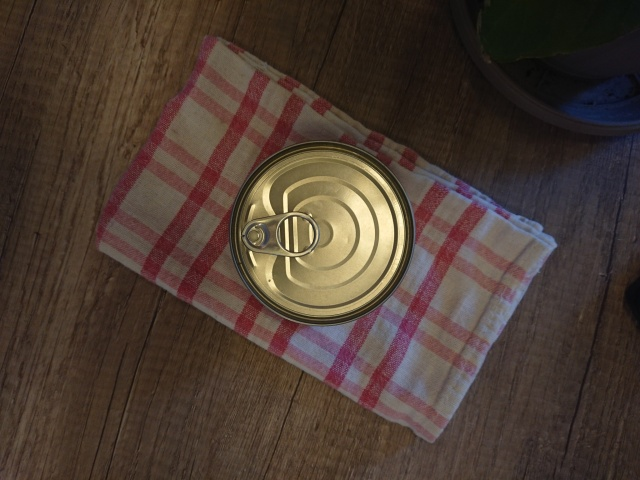Giana Tuna Salad Mexico 185g: (226, 136, 420, 329)
